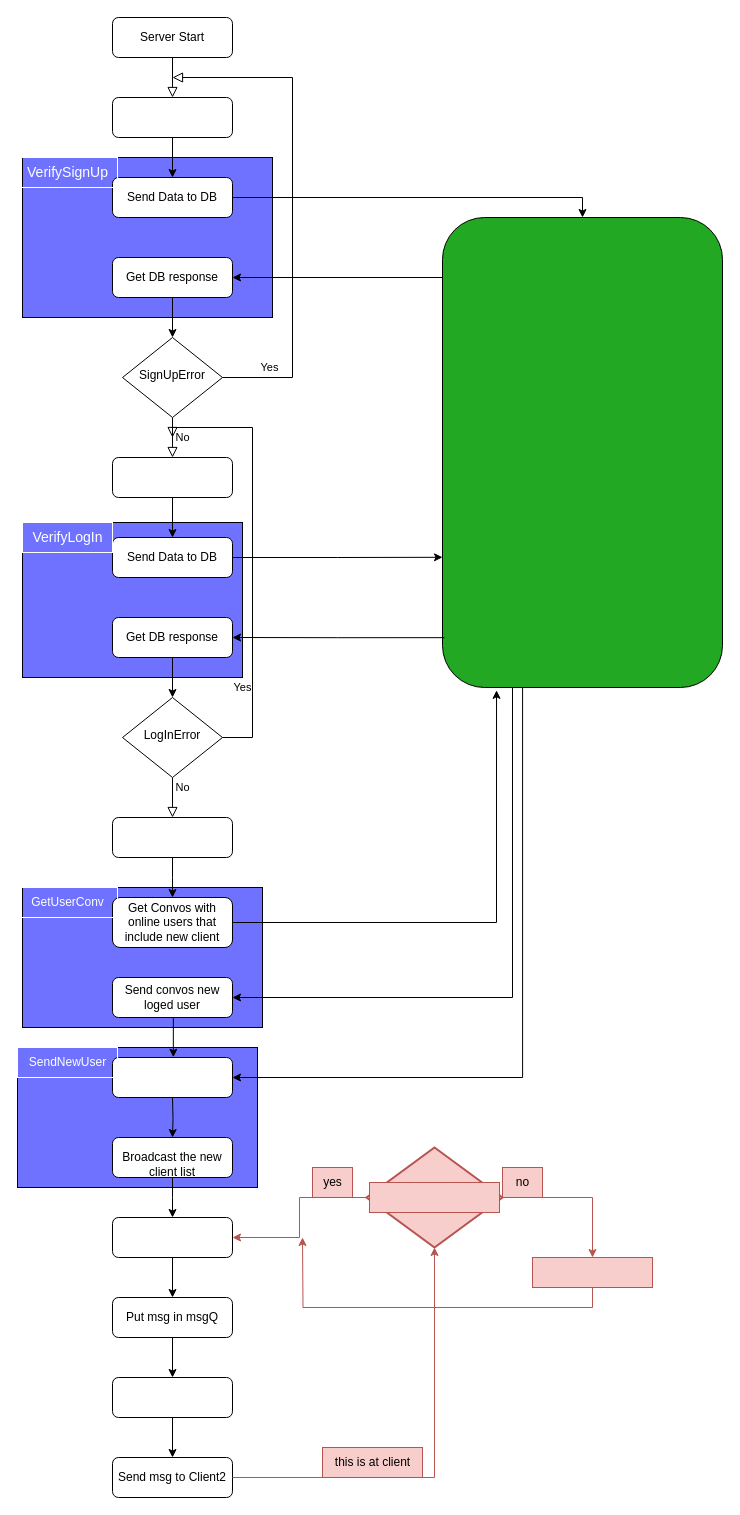
This 740x1515 diagram has some shape labels left out. Each missing label, with the centre of its shape:
"Add new client to client list" belongs at point (172, 837).
"Client creates conv" belongs at point (592, 1272).
"Client Log In" belongs at point (172, 477).
"Client Sign Up" belongs at point (172, 117).
"conv exists at Client" belongs at point (434, 1197).
"Database" belongs at point (582, 452).
"Get msg from Client1 to Client2" belongs at point (172, 1237).
"Send convos with new user to all client" belongs at point (172, 1077).
"Take msg in msgQ" belongs at point (172, 1397).
